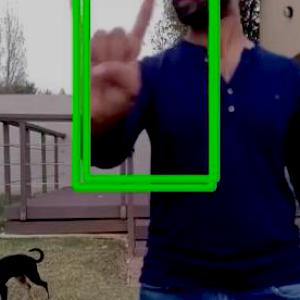takeoff-hand: (63, 0, 161, 126)
